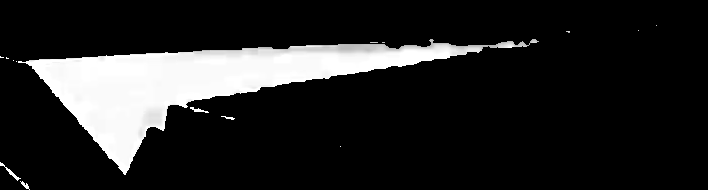Plane: (18, 26, 594, 180)
